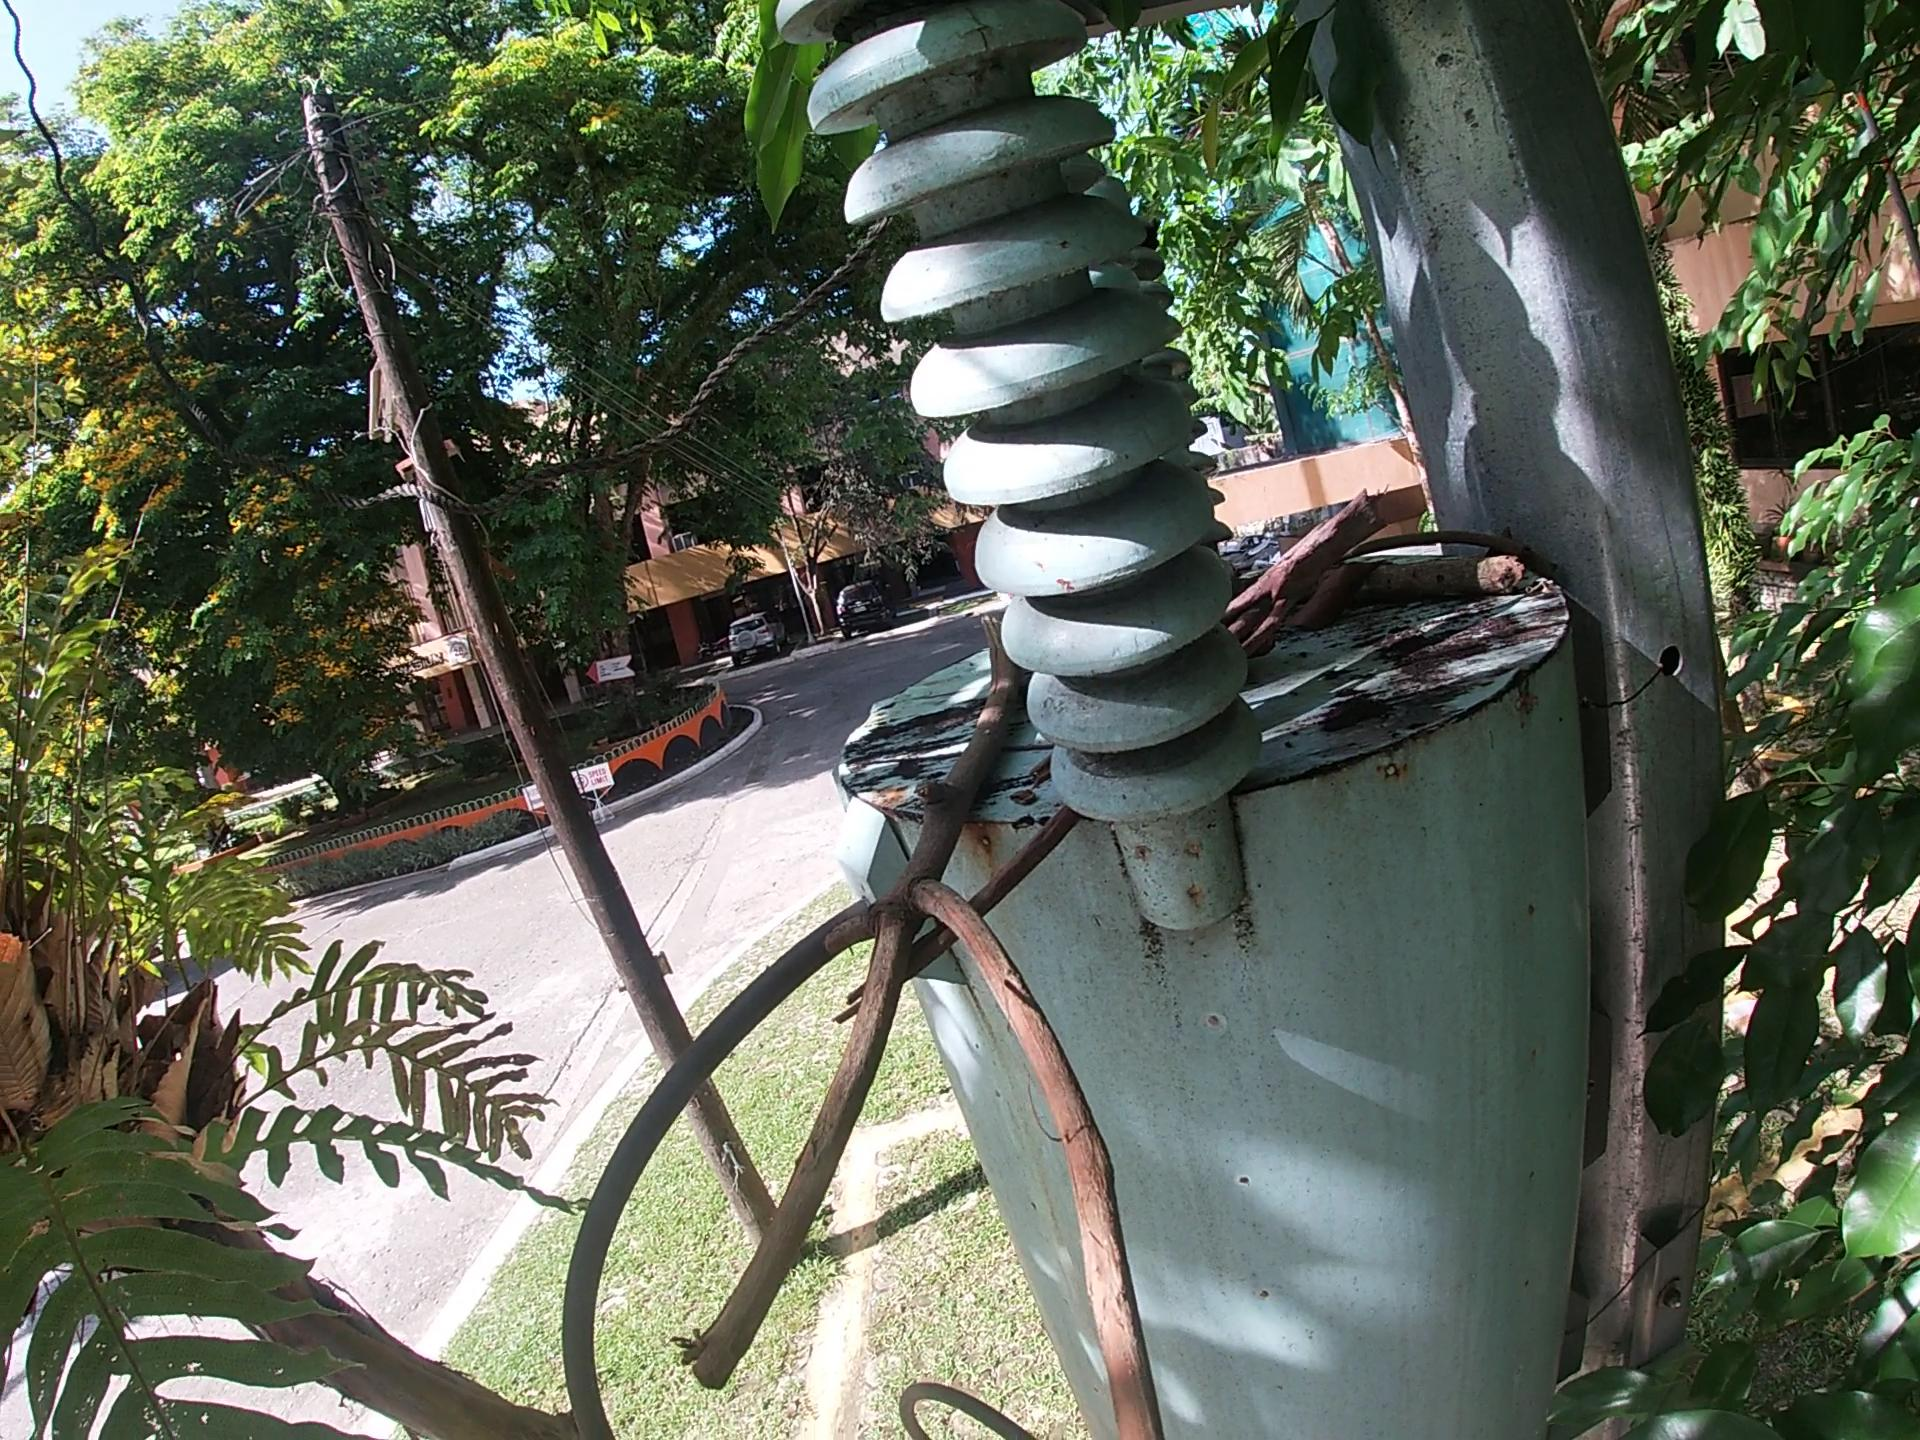leaf: (1284, 552, 1395, 647)
tree branch: (674, 570, 1178, 1440), (838, 802, 1095, 1030), (1214, 483, 1400, 661), (1335, 554, 1531, 605), (1341, 522, 1544, 566)
